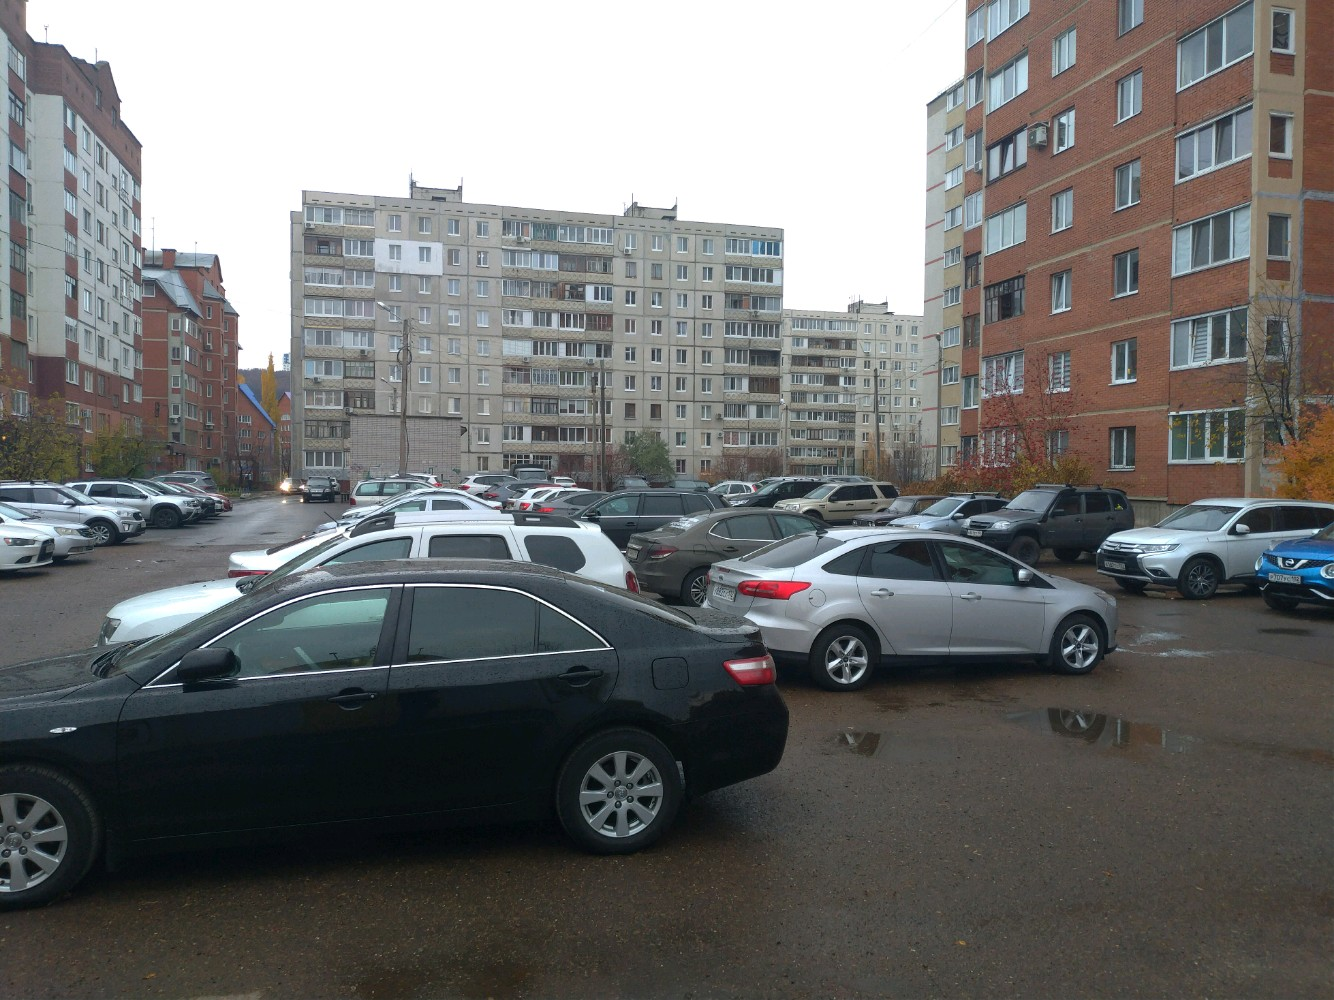Car: (0, 559, 790, 910), (98, 509, 638, 645), (700, 529, 1118, 691), (1097, 498, 1334, 599), (627, 506, 831, 606), (963, 484, 1134, 563), (568, 488, 734, 547), (0, 483, 144, 546), (311, 492, 494, 536), (227, 521, 357, 578), (1255, 524, 1334, 611), (64, 480, 201, 529), (0, 504, 96, 561), (773, 483, 898, 524), (341, 487, 503, 519), (885, 494, 1010, 533), (117, 478, 215, 518), (0, 512, 55, 574), (853, 495, 941, 526), (727, 480, 828, 507), (350, 476, 438, 506), (482, 480, 562, 508), (164, 482, 233, 512), (514, 487, 593, 511), (531, 492, 609, 515), (165, 484, 223, 514), (147, 471, 216, 494), (457, 474, 521, 497), (504, 486, 564, 511), (708, 482, 764, 499), (304, 476, 335, 502), (390, 473, 442, 487), (612, 474, 651, 492), (509, 463, 548, 481), (758, 477, 809, 486), (280, 478, 304, 495), (826, 476, 877, 482), (550, 477, 578, 488), (663, 481, 699, 489), (692, 481, 711, 492), (330, 477, 340, 494)
